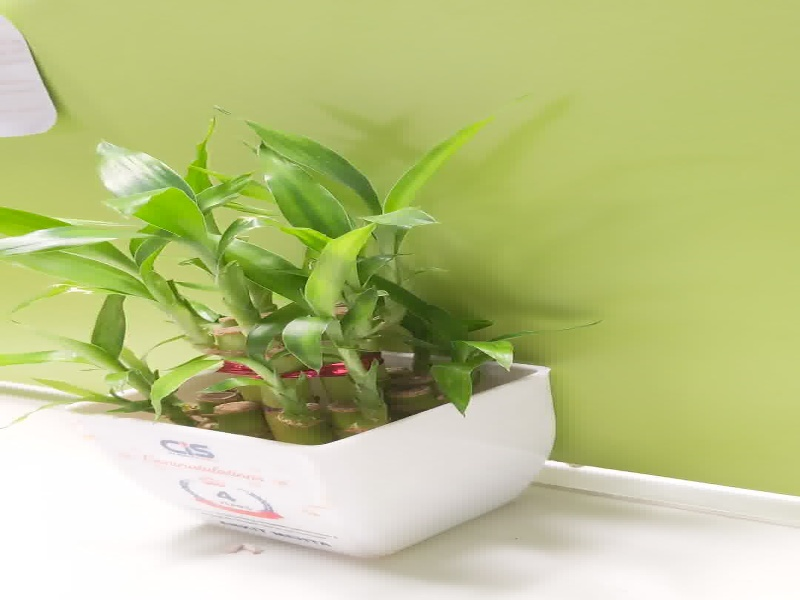bamboo: (1, 97, 596, 559)
